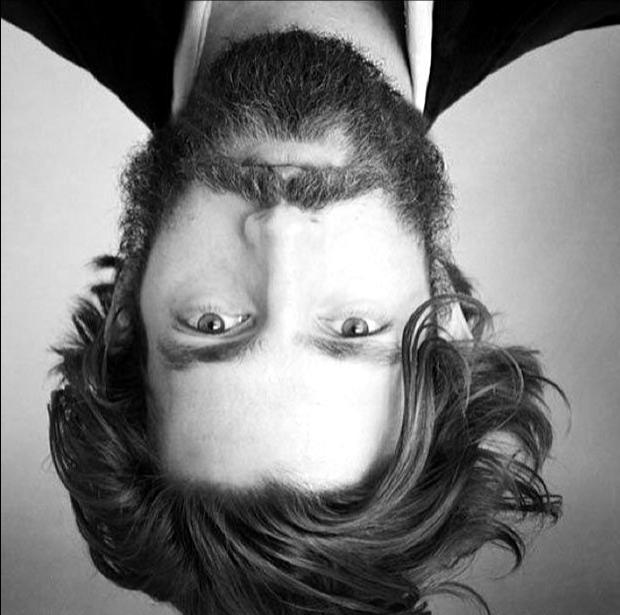bar: (95, 32, 447, 279)
